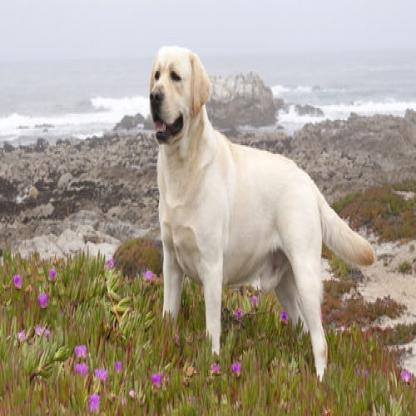dog: (147, 42, 375, 381)
